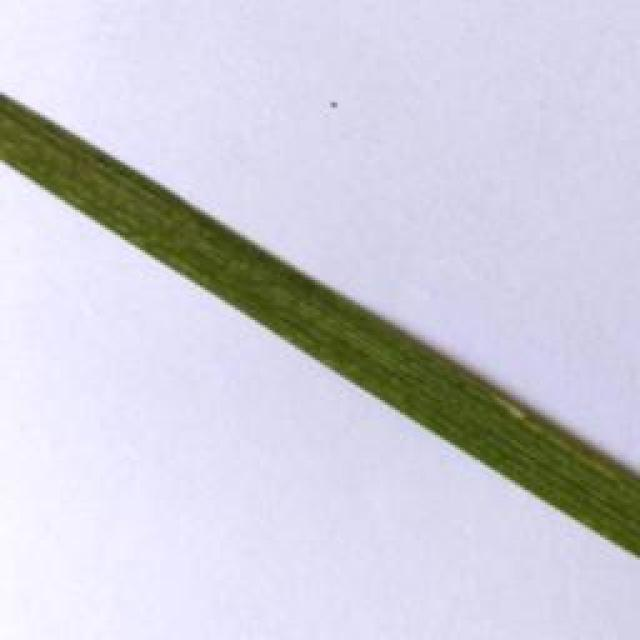Bacterial_Blight: (478, 371, 550, 444)
